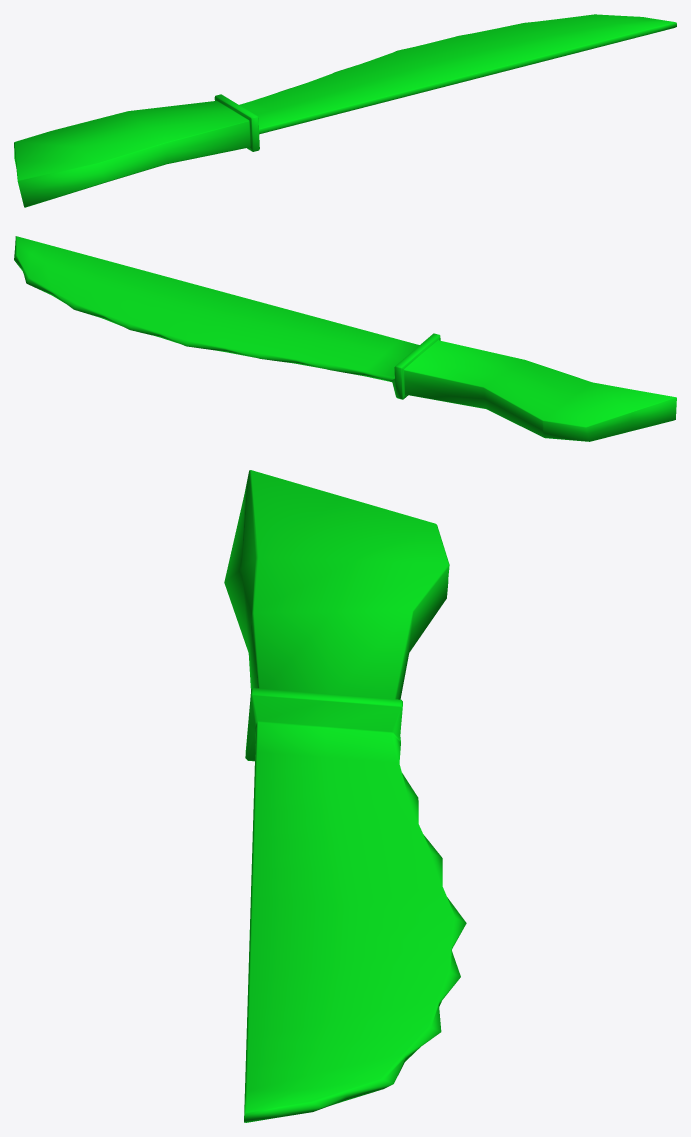
The model's file is Faca.fbx.
3 views of the same model, one above another, from view 1: azimuth 30°, elevation 25°; view 2: azimuth 150°, elevation 25°; view 3: azimuth 270°, elevation 25° (orthographic). The views are drawn at different scales.
Visible parts, largest first — view 1: Faca.003; view 2: Faca.003; view 3: Faca.003.
Part boxes in pixels (x1,y1,x2,y2): Faca.003: (14,14,676,207); Faca.003: (14,236,676,441); Faca.003: (224,470,466,1122).
Size of the model in its own units: 364 by 20.53 by 57.99.
